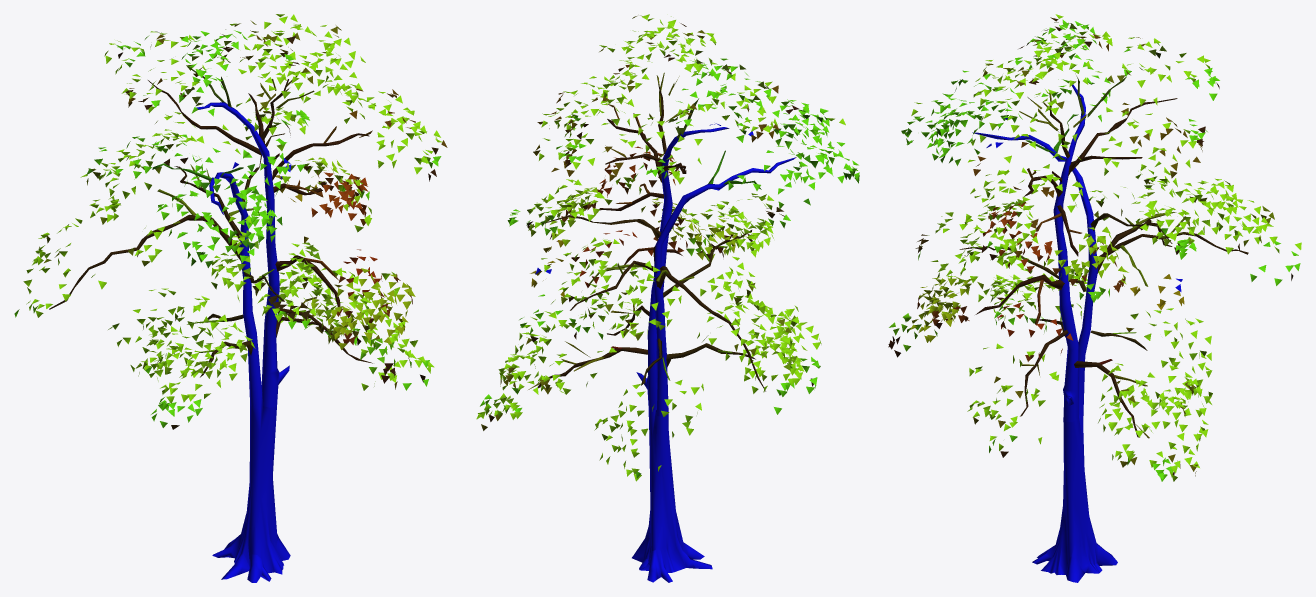
The model's file is SM_TestLeaf_Test2.FBX.
3 renders of one model, left to right at view 1: azimuth 30°, elevation 25°; view 2: azimuth 150°, elevation 25°; view 3: azimuth 270°, elevation 25°, orthographic. The views are drawn at different scales.
Parts seen in each view (by area): view 1: transform3; view 2: transform3; view 3: transform3.
Part boxes in pixels (<box>): transform3: <box>14,14,447,582</box>; transform3: <box>476,14,859,582</box>; transform3: <box>888,14,1301,582</box>.
Size of the model in its own units: 1349 by 2033 by 1442.
